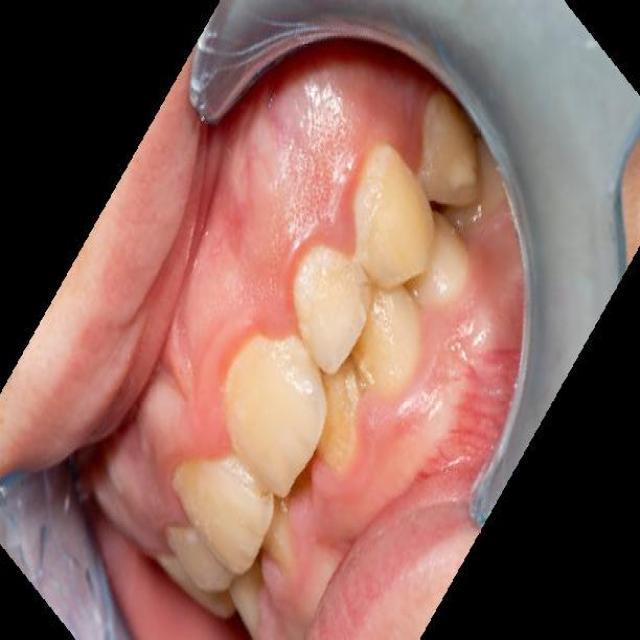calculus: (316, 371, 372, 469)
